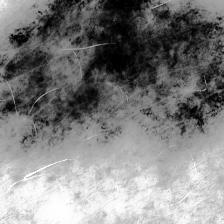Benign Marking or Mole: (0, 0, 224, 156)
